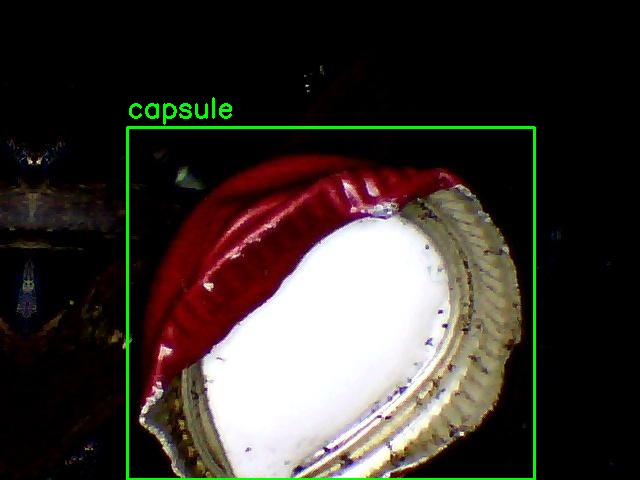capsule: (127, 127, 534, 479)
